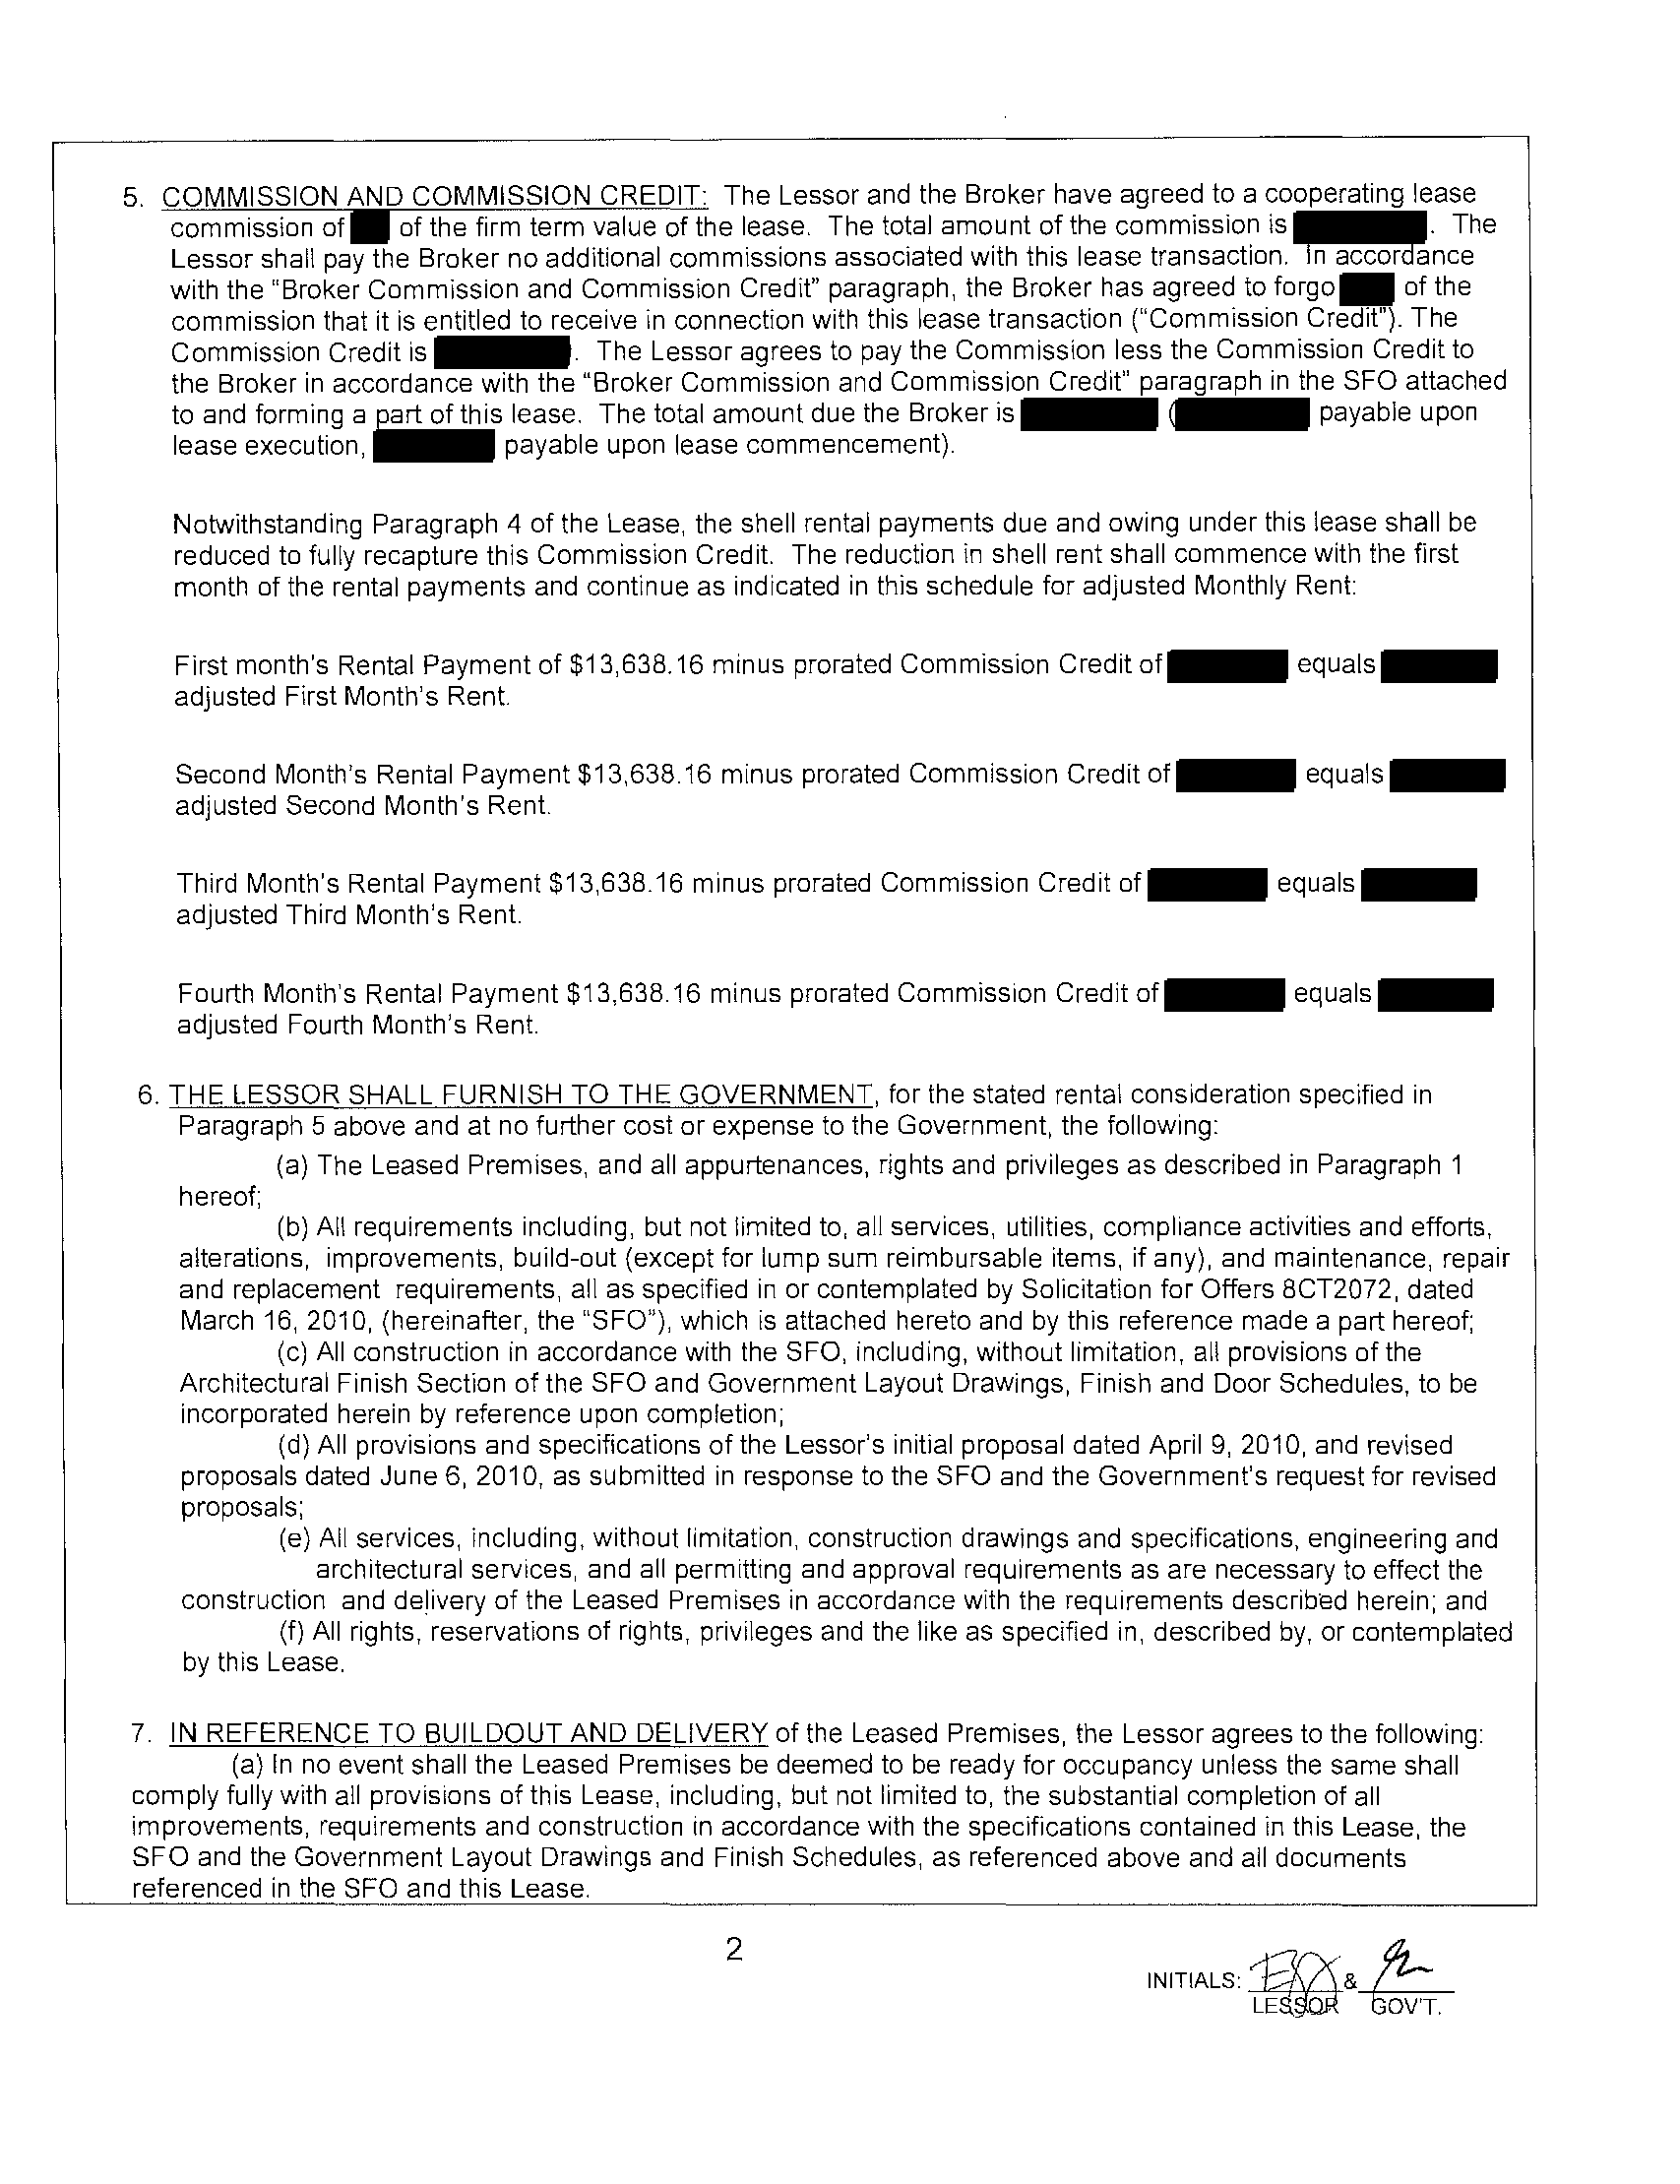handwritten: (1248, 1928, 1447, 1999)
